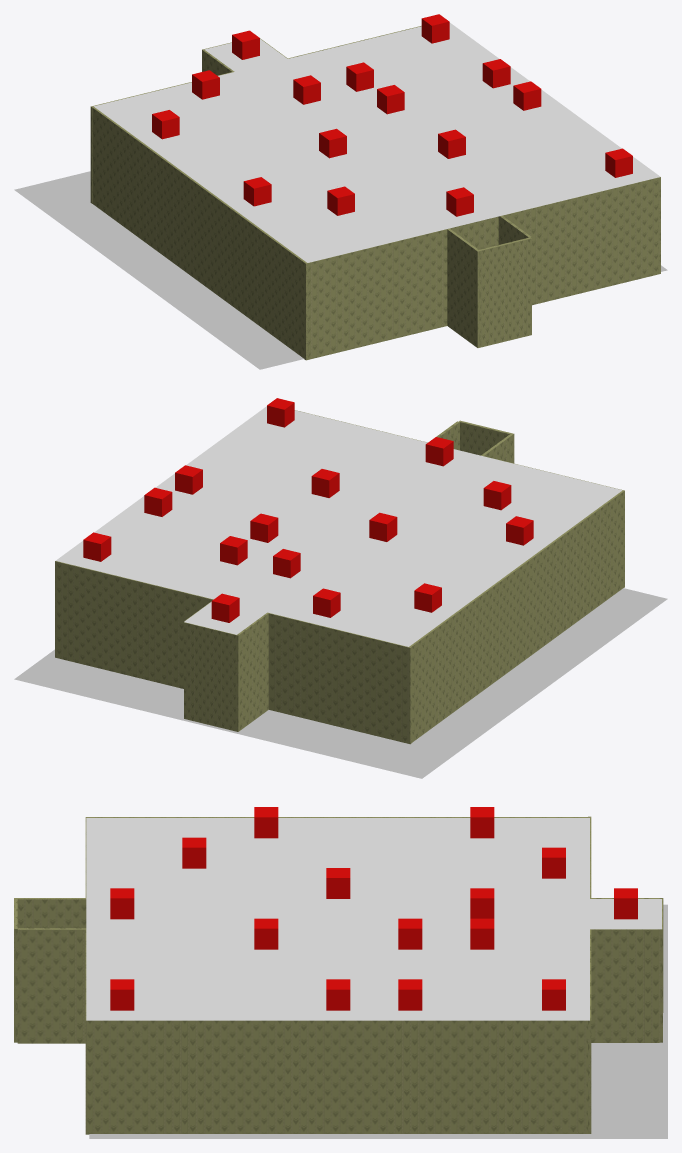
File: labyrinthedecon.fbx
The picture shows the model from 3 angles, top to bottom: view 1: azimuth 30°, elevation 25°; view 2: azimuth 150°, elevation 25°; view 3: azimuth 270°, elevation 25°; orthographic projection. The views are drawn at different scales.
Parts seen in each view (by area): view 1: Cube.036, Cube.060, Cube.061, Plane, Cube.063, Cube.062, Cube.053, Cube.008, Cube.012, Cube.014, Cube, Cube.001 (+11 smaller); view 2: Cube.036, Plane, Cube.035, Cube.040, Cube.038, Cube.034, Cube.063, Cube.004, Cube.002, Cube, Cube.003, Cube.006 (+11 smaller); view 3: Cube.044, Plane, Cube.064, Cube.039, Cube.062, Cube.008, Cube.009, Cube.012, Cube.002, Cube.005, Cube.006, Cube.007 (+10 smaller).
Part boxes in pixels (x1,y1,x2,y2): Cube.036: (92,107,308,359); Cube.060: (305,229,447,360); Cube.061: (502,177,660,305); Plane: (14,171,667,369); Cube.063: (479,237,531,347); Cube.062: (447,228,480,347); Cube.053: (450,216,498,249); Cube.008: (482,59,510,88); Cube.012: (513,81,541,110); Cube.014: (243,177,271,206); Cube: (421,14,449,43); Cube.001: (192,70,219,99); Cube.036: (410,490,624,742); Plane: (14,588,667,778); Cube.035: (268,613,411,744); Cube.040: (55,561,213,688); Cube.038: (184,622,235,731); Cube.034: (235,612,268,731); Cube.063: (459,420,511,455); Cube.004: (369,512,397,541); Cube.002: (483,481,511,510); Cube: (83,532,111,561); Cube.003: (211,593,239,622); Cube.006: (425,437,453,466); Cube.044: (85,1020,587,1134); Plane: (89,904,667,1138); Cube.064: (17,928,86,1043); Cube.039: (590,929,659,1042); Cube.062: (14,898,86,928); Cube.008: (398,979,422,1010); Cube.009: (110,979,134,1010); Cube.012: (326,979,350,1010); Cube.002: (182,837,206,868); Cube.005: (470,918,494,949); Cube.006: (110,888,134,919); Cube.007: (254,918,278,949).
Bounding box in the file's own units: 6182 × 1658 × 7294.
